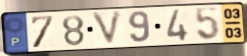4: (165, 8, 190, 43)
5: (192, 5, 222, 42)
7: (30, 15, 56, 50)
8: (60, 13, 87, 48)
9: (127, 9, 152, 45)
V: (89, 9, 124, 48)
